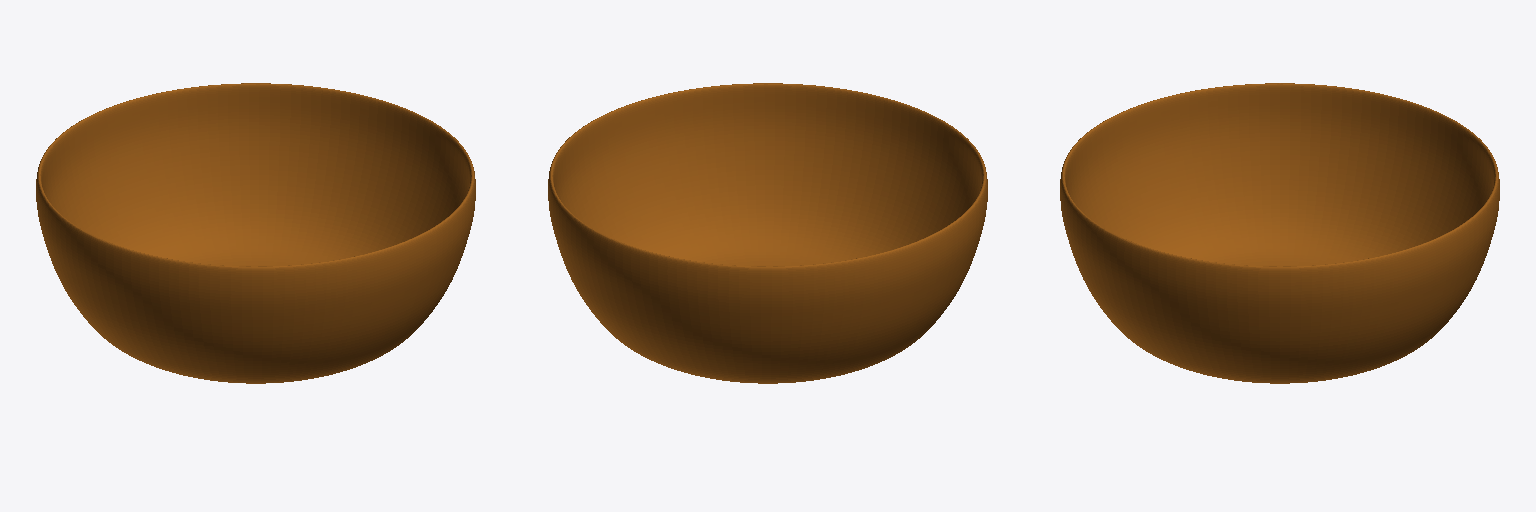
Rendered from Bowl.obj.
3 views of the same model, side by side, from view 1: azimuth 30°, elevation 25°; view 2: azimuth 150°, elevation 25°; view 3: azimuth 270°, elevation 25° (orthographic).
Parts seen in each view (by area): view 1: Cube; view 2: Cube; view 3: Cube.
Boxes of the visible parts, <box> form: Cube: <box>36,83,475,383</box>; Cube: <box>548,83,987,383</box>; Cube: <box>1060,83,1499,383</box>.
Size of the model in its own units: 5.52 by 2.24 by 5.52.